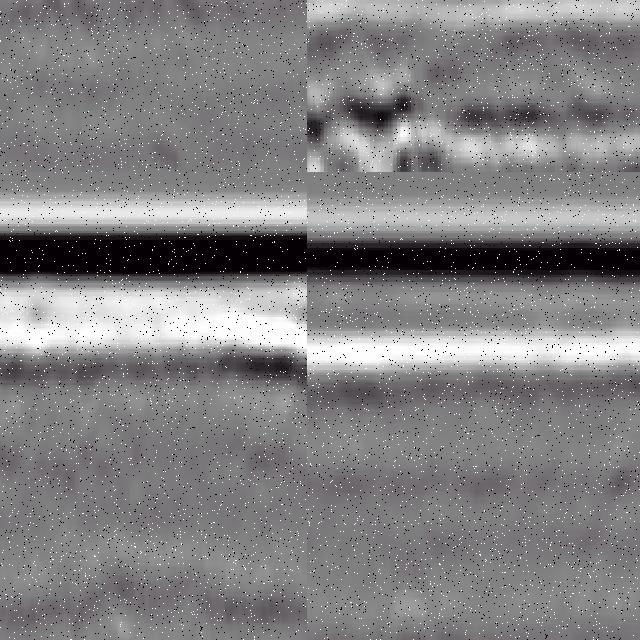loose: (1, 1, 199, 95), (308, 72, 431, 173)
